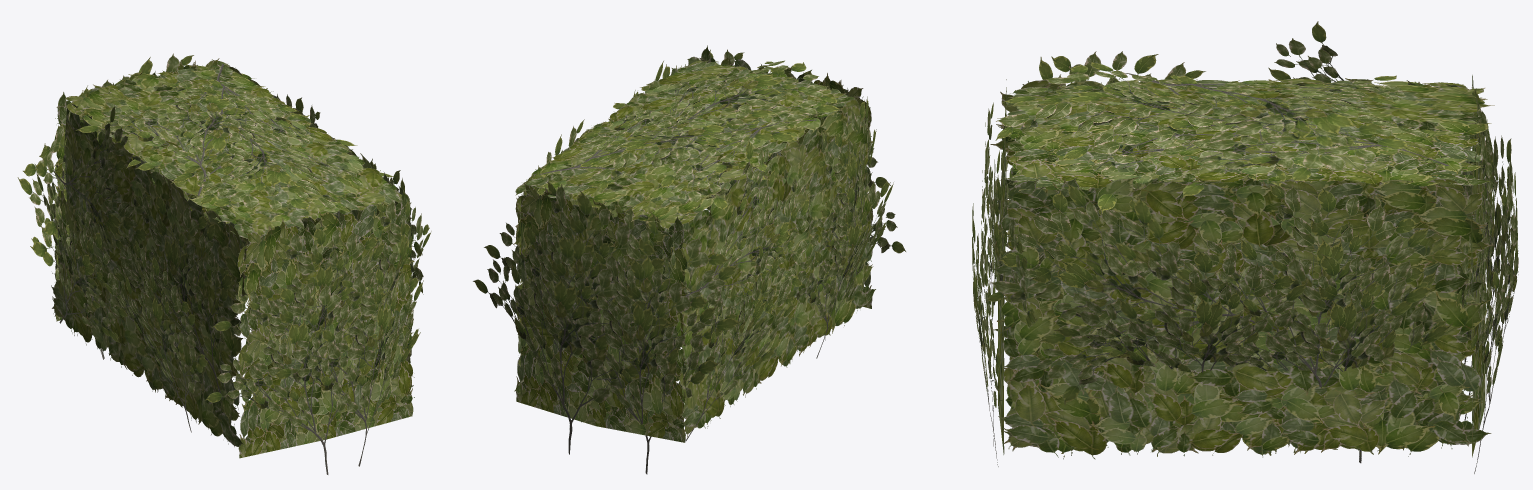
The model's file is MB_Boxwood_Shrubs_03.fbx.
3 views of the same model, side by side, from view 1: azimuth 30°, elevation 25°; view 2: azimuth 150°, elevation 25°; view 3: azimuth 270°, elevation 25° (orthographic). The views are drawn at different scales.
Parts seen in each view (by area): view 1: MB_Boxwood_Shrubs_03_LOD0; view 2: MB_Boxwood_Shrubs_03_LOD0; view 3: MB_Boxwood_Shrubs_03_LOD0.
Part boxes in pixels (x1,y1,x2,y2): MB_Boxwood_Shrubs_03_LOD0: (17, 53, 431, 474); MB_Boxwood_Shrubs_03_LOD0: (473, 45, 905, 474); MB_Boxwood_Shrubs_03_LOD0: (972, 21, 1518, 473).
Size of what is drawn, in the model's own units: 145 by 166 by 213.
